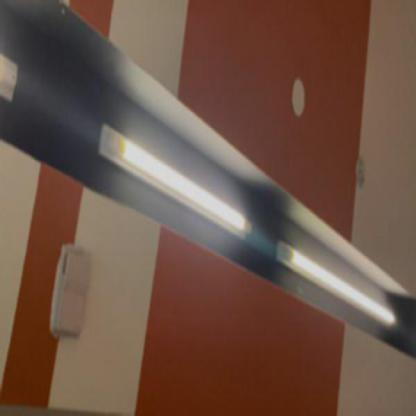light_on: (89, 107, 254, 248), (271, 224, 399, 351)
